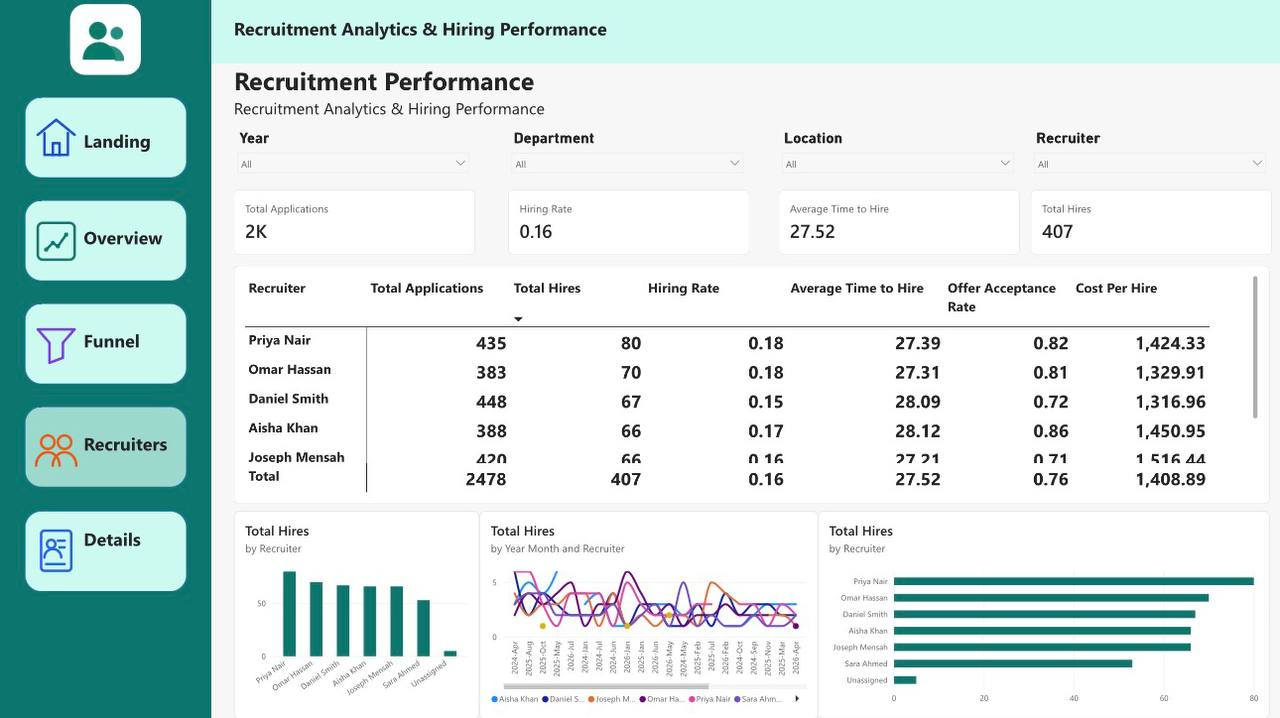

The dashboard page shown, as its layout file describes it:
{"tool":"powerbi","page":{"name":"Recruitment Performance","canvas":[1920,1080],"ordinal":3},"visuals":[{"type":"shape","box":[0,0,317,1080.6],"z":0},{"type":"shape","box":[37,146.2,242.9,121.4],"z":1},{"type":"shape","box":[37,302.6,242.9,121.4],"z":2},{"type":"shape","box":[37,457,242.9,121.4],"z":3},{"type":"shape","box":[37,611.4,242.9,121.4],"z":4},{"type":"shape","box":[37,767.8,242.9,121.4],"z":5},{"type":"image","box":[43.2,168.8,82.3,80.3],"z":6},{"type":"image","box":[43.2,323.2,82.3,80.3],"z":7},{"type":"image","box":[43.2,477.6,82.3,80.3],"z":8},{"type":"image","box":[43.2,634,82.3,80.3],"z":9},{"type":"image","box":[43.2,788.4,82.3,80.3],"z":10},{"type":"shape","box":[316.6,0,1603.4,96.7],"z":11},{"type":"textbox","box":[349.9,24.7,609.3,49.4],"z":12},{"type":"textbox","box":[349.9,96.7,452.8,49.4],"z":13},{"type":"slicer","fields":{"Values":["Date Table.Date.Variation.Date Hierarchy.Year"]},"box":[349.9,197.7,358.1,63.8],"z":14},{"type":"slicer","fields":{"Values":["Recruitment_Data.Department"]},"box":[761.6,197.7,358.1,63.8],"z":15},{"type":"slicer","fields":{"Values":["Recruitment_Data.Location"]},"box":[1167.1,197.7,358.1,63.8],"z":16},{"type":"slicer","fields":{"Values":["Recruitment_Data.Recruiter"]},"box":[1545.8,197.7,358.1,63.8],"z":17},{"type":"cardVisual","fields":{"Data":["Recruitment_Data.Total Applications"]},"box":[349.9,286.1,362.3,98.8],"z":18},{"type":"pivotTable","fields":{"Rows":["Recruitment_Data.Recruiter"],"Values":["Recruitment_Data.Total Applications","Recruitment_Data.Total Hires","Recruitment_Data.Hiring Rate","Recruitment_Data.Average Time to Hire","Recruitment_Data.Offer Acceptance Rate","Recruitment_Data.Cost Per Hire"]},"box":[349.9,399.3,1554,358.1],"z":21},{"type":"textbox","box":[125.6,193.5,107,49.4],"z":22},{"type":"textbox","box":[125.6,494,107,49.4],"z":23},{"type":"textbox","box":[125.6,648.4,154.4,49.4],"z":24},{"type":"textbox","box":[125.6,792.5,107,49.4],"z":25},{"type":"textbox","box":[349.9,146.1,502.2,32.9],"z":26},{"type":"cardVisual","fields":{"Data":["Recruitment_Data.Hiring Rate"]},"box":[761.6,286.1,362.3,98.8],"z":27},{"type":"cardVisual","fields":{"Data":["Recruitment_Data.Average Time to Hire"]},"box":[1167.1,286.1,362.3,98.8],"z":28},{"type":"cardVisual","fields":{"Data":["Recruitment_Data.Total Hires"]},"box":[1545.8,286.1,362.3,98.8],"z":29},{"type":"clusteredColumnChart","fields":{"Category":["Recruitment_Data.Recruiter"],"Y":["Recruitment_Data.Total Hires"]},"box":[349.9,767.8,368.4,312.9],"z":30},{"type":"textbox","box":[125.6,339.6,127.6,49.4],"z":32},{"type":"image","box":[8.2,0,300.5,121.4],"z":33},{"type":"lineChart","fields":{"Category":["Date Table.Year Month"],"Series":["Recruitment_Data.Recruiter"],"Y":["Recruitment_Data.Total Hires"]},"box":[718.4,767.8,508.4,312.9],"z":34},{"type":"clusteredBarChart","fields":{"Category":["Recruitment_Data.Recruiter"],"Y":["Recruitment_Data.Total Hires"]},"box":[1226,768,678,312],"z":35}]}

Visuals, with their boxes on the page's 1920x1080 design canvas (x1, y1, x2, y2). These are canvas units, not pixel positions in the 1280x718 screenshot, which may show the page scaled, cropped or inside an application window:
shape: {"x1": 0, "y1": 0, "x2": 317, "y2": 1081}
shape: {"x1": 37, "y1": 146, "x2": 280, "y2": 268}
shape: {"x1": 37, "y1": 303, "x2": 280, "y2": 424}
shape: {"x1": 37, "y1": 457, "x2": 280, "y2": 578}
shape: {"x1": 37, "y1": 611, "x2": 280, "y2": 733}
shape: {"x1": 37, "y1": 768, "x2": 280, "y2": 889}
image: {"x1": 43, "y1": 169, "x2": 126, "y2": 249}
image: {"x1": 43, "y1": 323, "x2": 126, "y2": 404}
image: {"x1": 43, "y1": 478, "x2": 126, "y2": 558}
image: {"x1": 43, "y1": 634, "x2": 126, "y2": 714}
image: {"x1": 43, "y1": 788, "x2": 126, "y2": 869}
shape: {"x1": 317, "y1": 0, "x2": 1920, "y2": 97}
textbox: {"x1": 350, "y1": 25, "x2": 959, "y2": 74}
textbox: {"x1": 350, "y1": 97, "x2": 803, "y2": 146}
slicer - Date Table.Date.Variation.Date Hierarchy.Year: {"x1": 350, "y1": 198, "x2": 708, "y2": 262}
slicer - Recruitment_Data.Department: {"x1": 762, "y1": 198, "x2": 1120, "y2": 262}
slicer - Recruitment_Data.Location: {"x1": 1167, "y1": 198, "x2": 1525, "y2": 262}
slicer - Recruitment_Data.Recruiter: {"x1": 1546, "y1": 198, "x2": 1904, "y2": 262}
cardVisual - Recruitment_Data.Total Applications: {"x1": 350, "y1": 286, "x2": 712, "y2": 385}
pivotTable - Recruitment_Data.Recruiter x Recruitment_Data.Total Applications: {"x1": 350, "y1": 399, "x2": 1904, "y2": 757}
textbox: {"x1": 126, "y1": 194, "x2": 233, "y2": 243}
textbox: {"x1": 126, "y1": 494, "x2": 233, "y2": 543}
textbox: {"x1": 126, "y1": 648, "x2": 280, "y2": 698}
textbox: {"x1": 126, "y1": 792, "x2": 233, "y2": 842}
textbox: {"x1": 350, "y1": 146, "x2": 852, "y2": 179}
cardVisual - Recruitment_Data.Hiring Rate: {"x1": 762, "y1": 286, "x2": 1124, "y2": 385}
cardVisual - Recruitment_Data.Average Time to Hire: {"x1": 1167, "y1": 286, "x2": 1529, "y2": 385}
cardVisual - Recruitment_Data.Total Hires: {"x1": 1546, "y1": 286, "x2": 1908, "y2": 385}
clusteredColumnChart - Recruitment_Data.Recruiter x Recruitment_Data.Total Hires: {"x1": 350, "y1": 768, "x2": 718, "y2": 1081}
textbox: {"x1": 126, "y1": 340, "x2": 253, "y2": 389}
image: {"x1": 8, "y1": 0, "x2": 309, "y2": 121}
lineChart - Date Table.Year Month x Recruitment_Data.Recruiter: {"x1": 718, "y1": 768, "x2": 1227, "y2": 1081}
clusteredBarChart - Recruitment_Data.Recruiter x Recruitment_Data.Total Hires: {"x1": 1226, "y1": 768, "x2": 1904, "y2": 1080}
